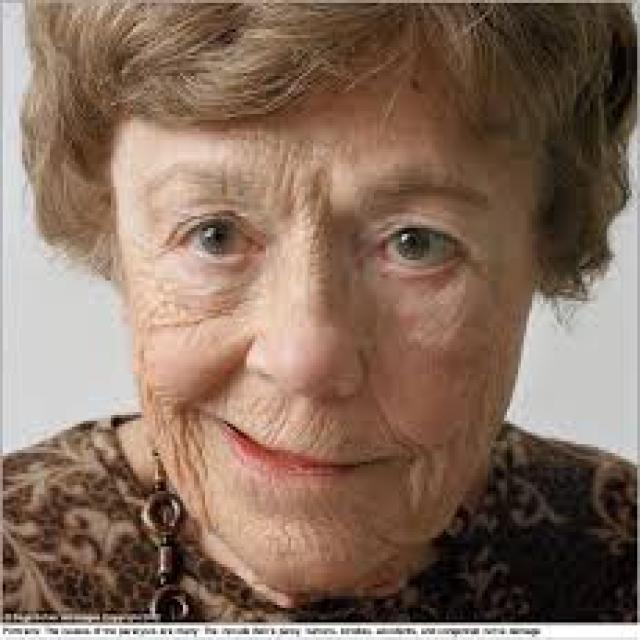stroke_face: (90, 26, 583, 604)
